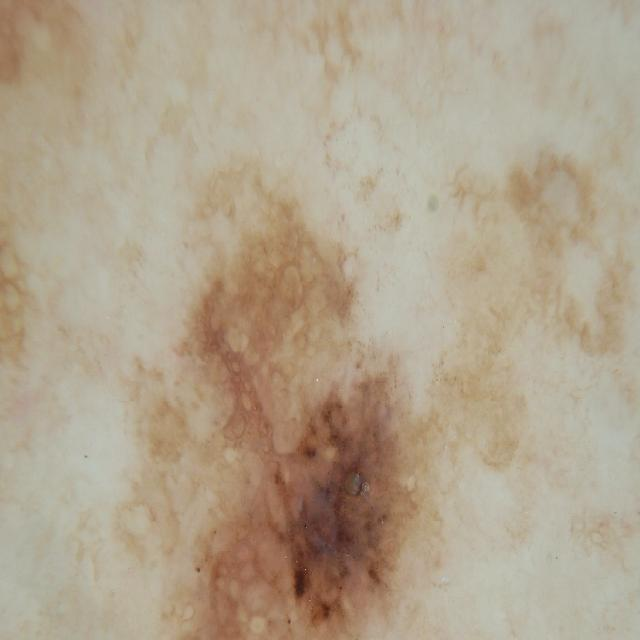Melanoma: (131, 209, 446, 640)
